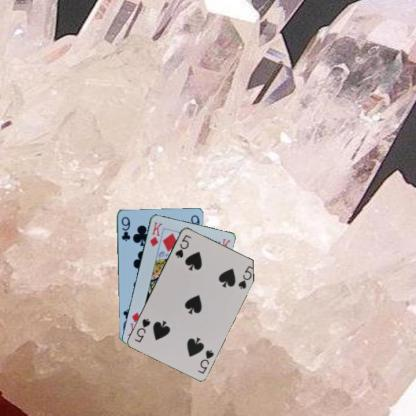5s: (195, 347, 215, 375), (172, 232, 192, 259)
9c: (119, 214, 131, 242)
Kd: (146, 219, 164, 248)
